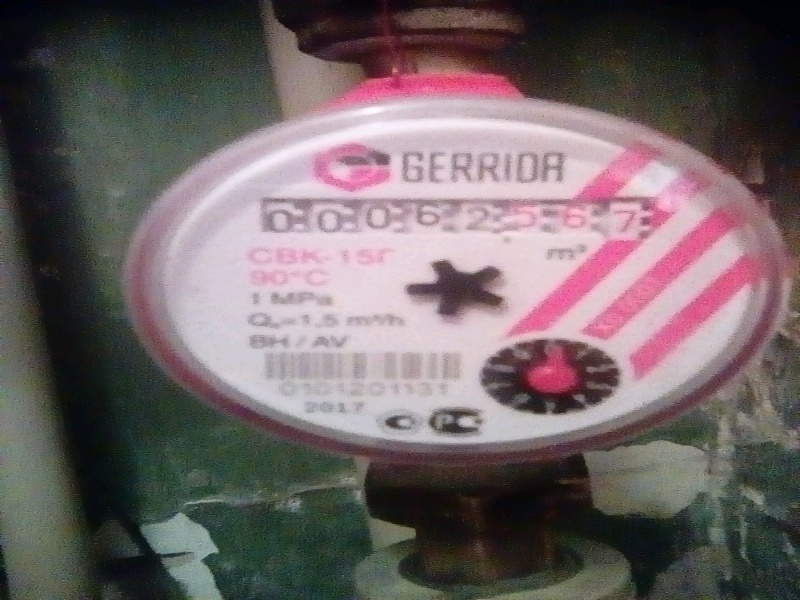meter: (255, 192, 665, 251)
